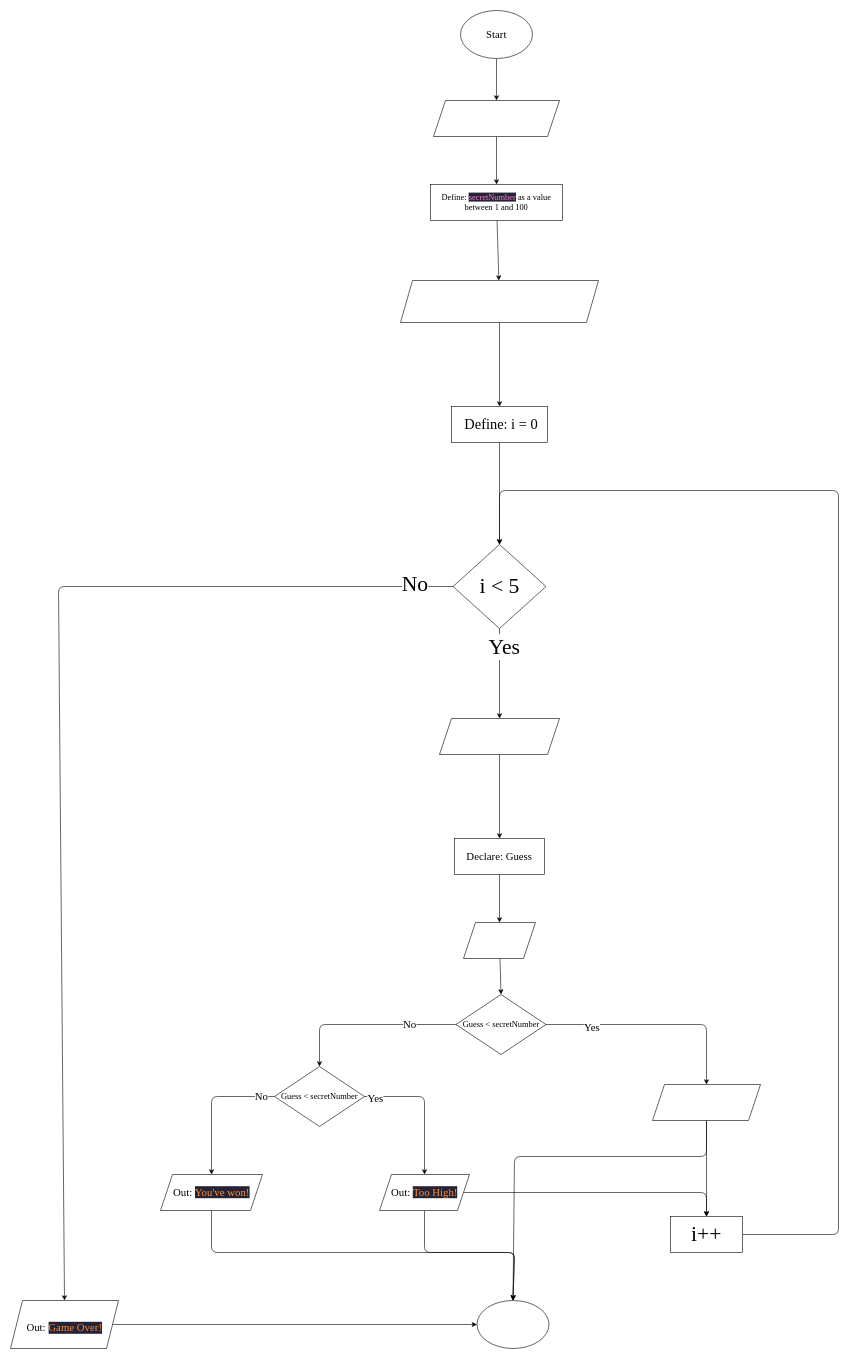
Image size: 854x1359. Some labels were removed from this diagram. Here are the shapes that lost their labels. From the top down, the centre of each, then its label:
(496,118): Out: Welcome to 'Guess The Number'
(499,301): Out: I'm thinking of a number between 1 and 100.
(499,736): Out: Enter your guess
(499,940): In: Guess = number
(706,1102): Out: Too Low!
(512,1324): End
